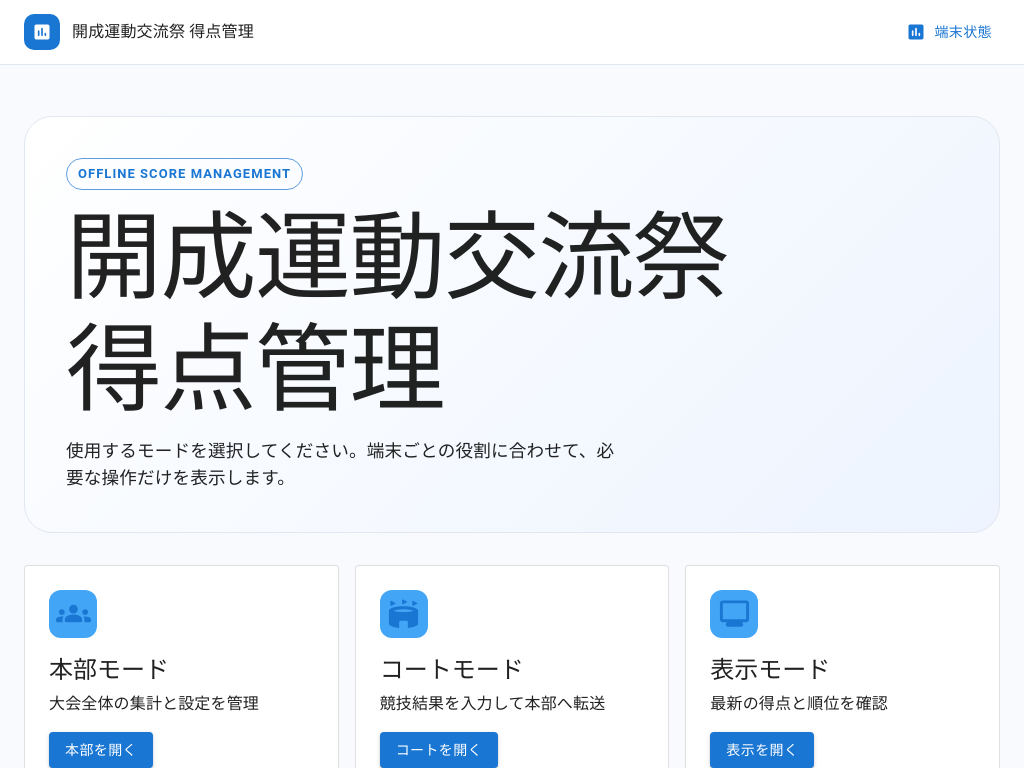
Phase 5 PWA integration › uses the single app version source and exposes device diagnostics
The width and height of the screenshot is (1024, 768).
Click the button "端末状態". click: (951, 32)
box: [902,14,1000,50]
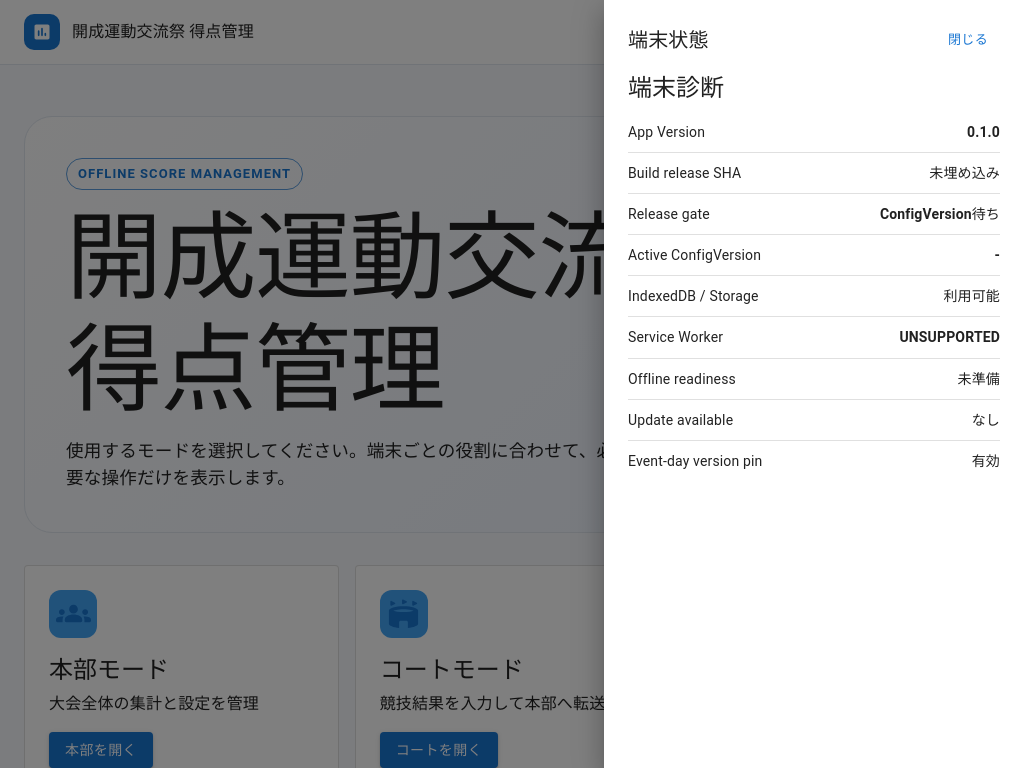
Expected: the text "App Version" is shown, [628,124,705,140]
Expected: the text "0.1.0" is shown, [967,122,1000,142]
Expected: the text "Active ConfigVersion" is shown, [628,248,761,264]
